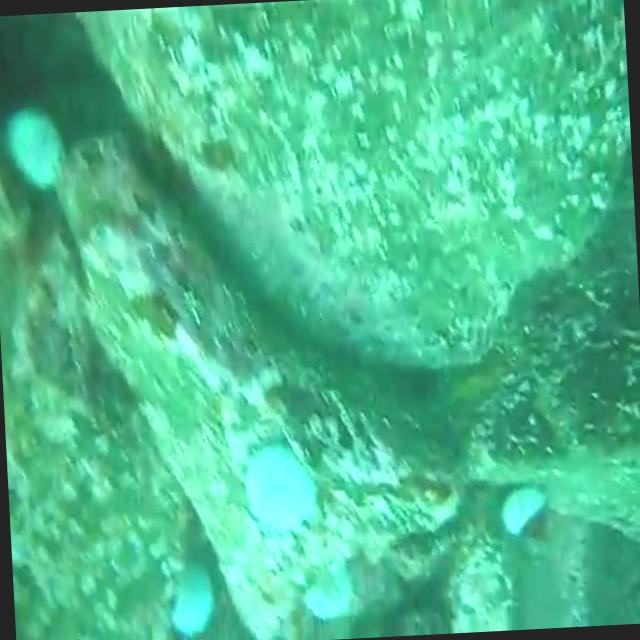Deniz Kestanesi: (241, 438, 319, 550), (168, 559, 215, 639)
